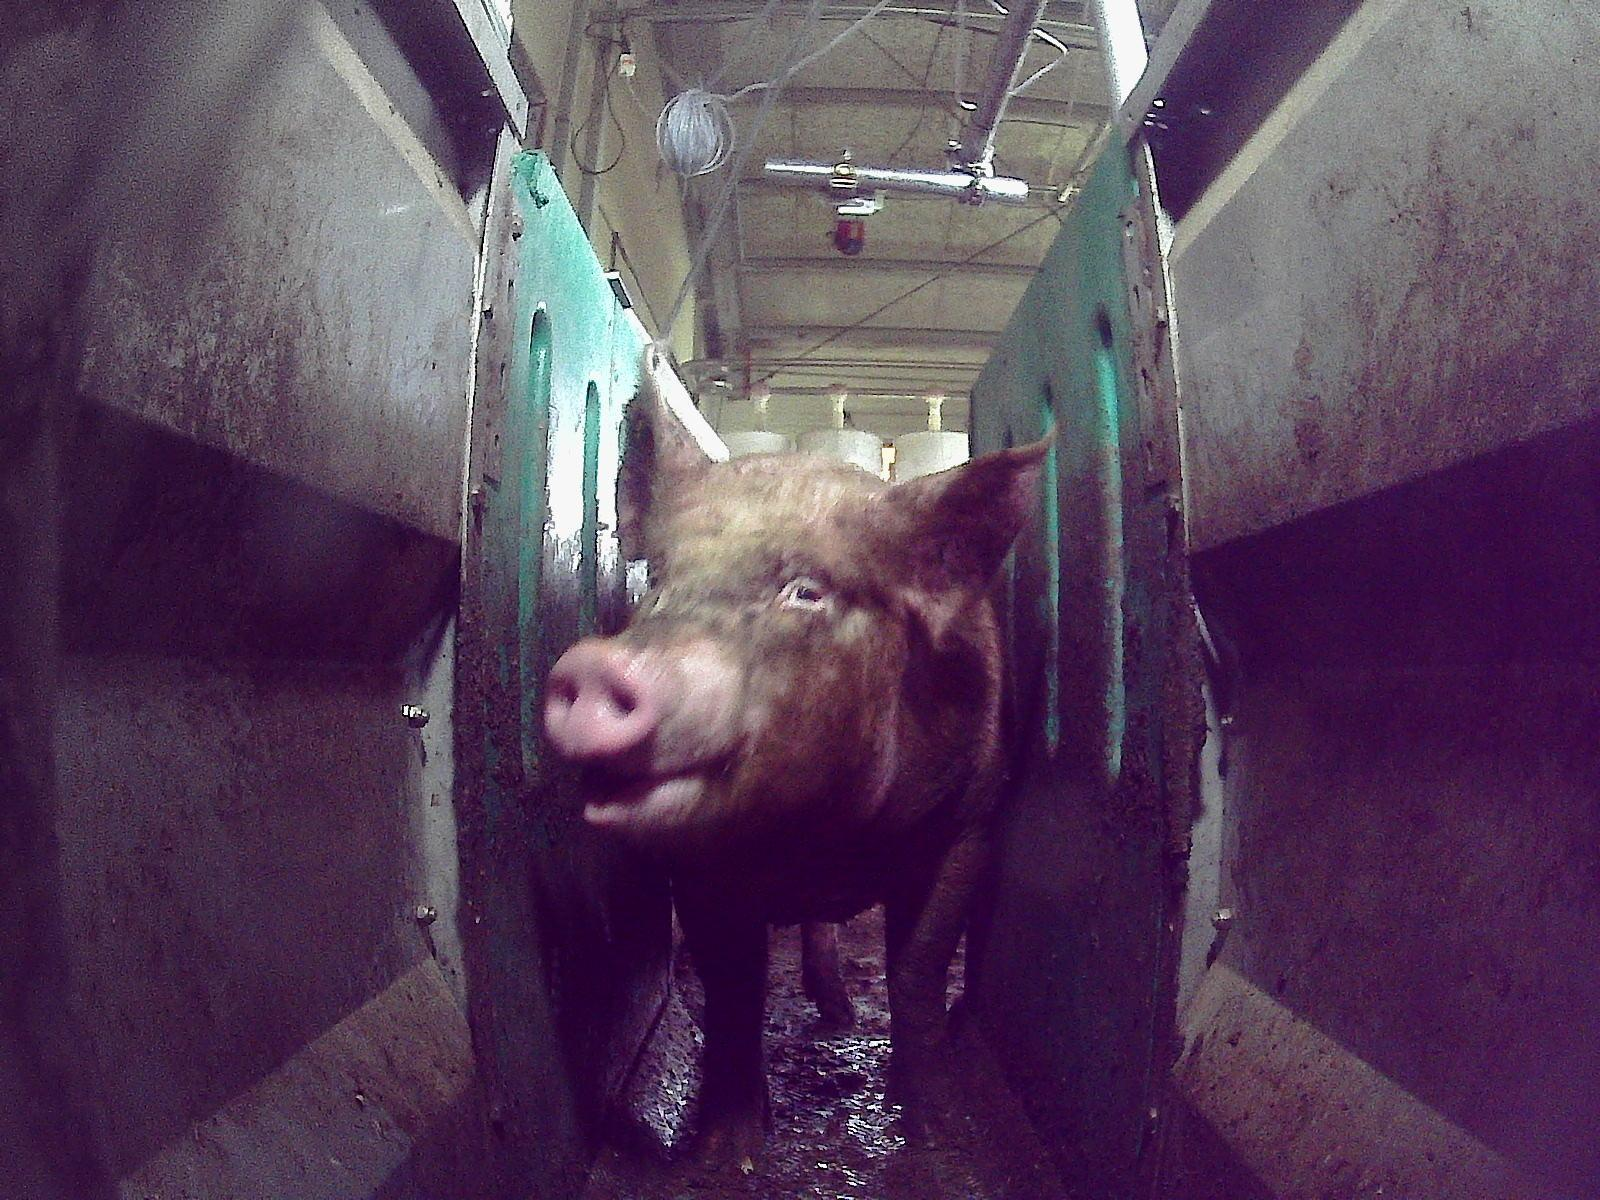Face: (539, 481, 901, 854)
